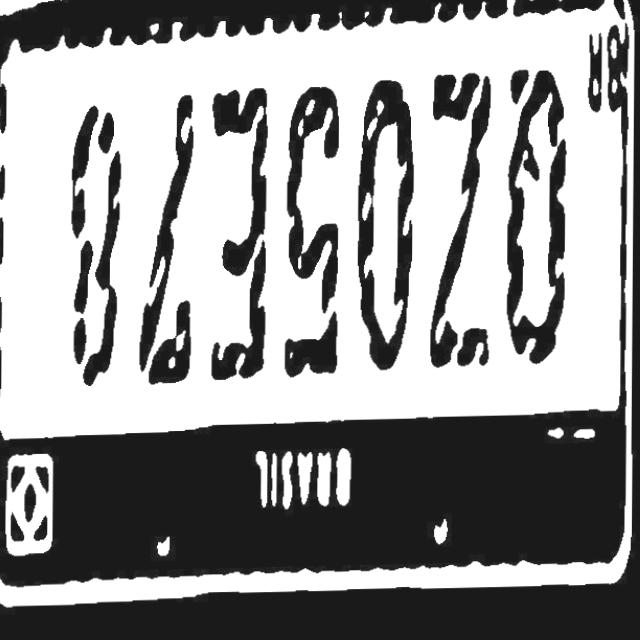0: (358, 76, 417, 377)
5: (285, 84, 347, 383)
7: (137, 89, 199, 390)
8: (52, 100, 126, 391)
e: (208, 87, 271, 384)
q: (501, 64, 572, 374)
z: (425, 70, 495, 371)
